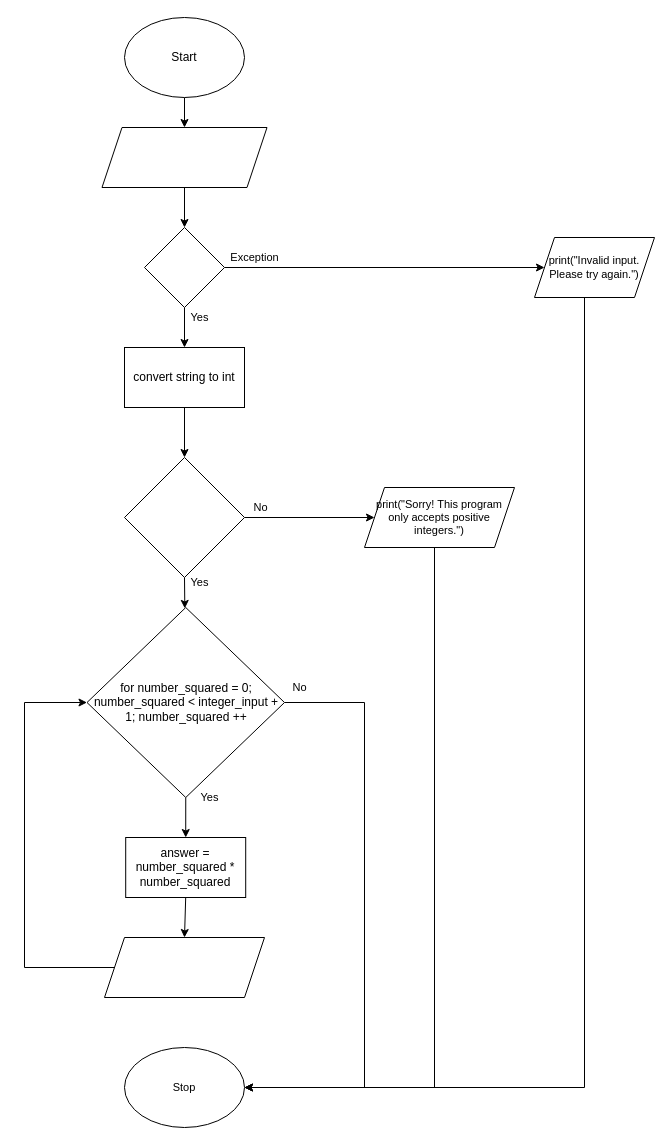
Image size: 672x1145. Some labels were removed from this diagram. The shapes that lost their labels are listed below. From the top down, each one's box as (x1, y1, x2, y2) in pixels, then its label:
(101, 126, 267, 188): get integer_input_string
(144, 226, 224, 308): try
(124, 456, 244, 578): if integer_input => 0
(104, 936, 264, 998): print (number squared² = answer)
